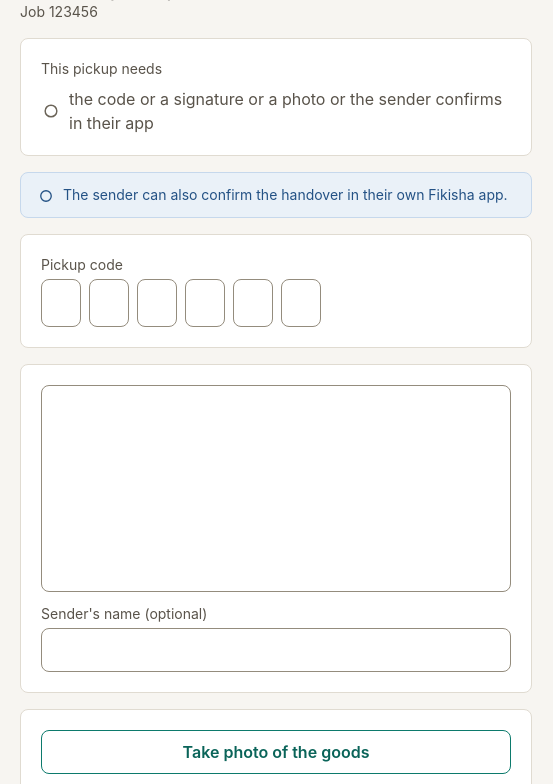
Test: PickupProofPage (two-party pickup, assessment 2026-10-20 L-5) › shows the server’s reason when it still refuses
Expected: the heading "This pickup needs" is shown, x1=41 y1=60 x2=162 y2=77
Type "1" into the field named "Digit".
click(61, 303); type("1")  # box x1=41 y1=279 x2=81 y2=327
Type "1" into the field named "Digit".
click(109, 303); type("1")  # box x1=89 y1=279 x2=129 y2=327
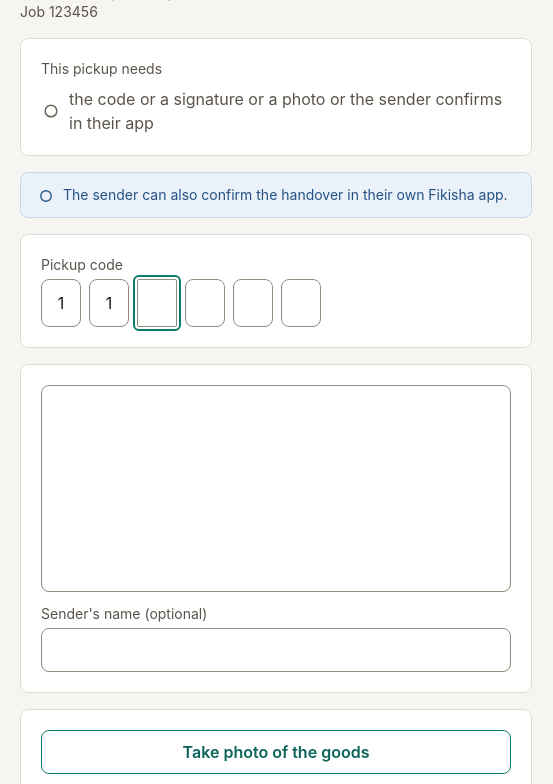
Type "1" into the field named "Digit".
click(157, 303); type("1")  # box x1=137 y1=279 x2=177 y2=327
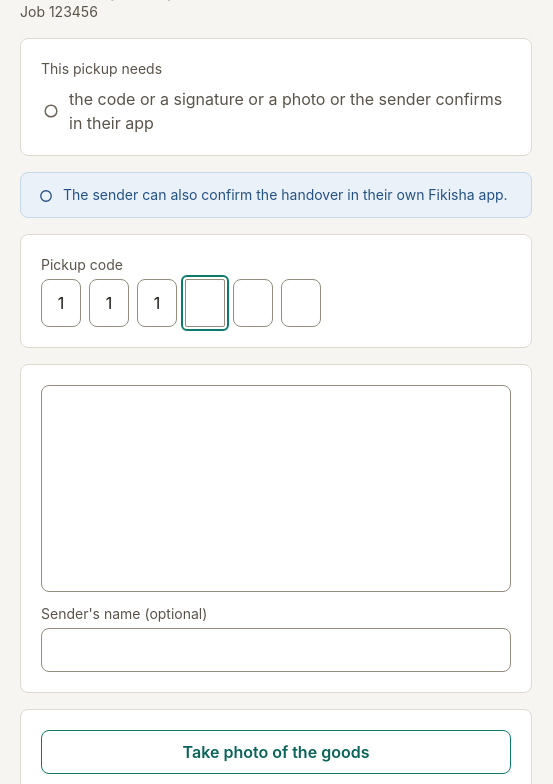
Type "1" into the field named "Digit".
click(205, 303); type("1")  # box x1=185 y1=279 x2=225 y2=327
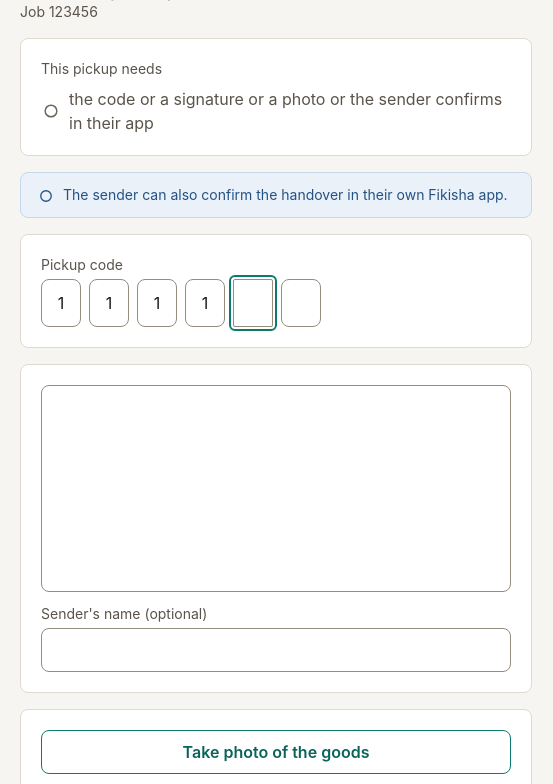
Type "1" into the field named "Digit".
click(253, 303); type("1")  # box x1=233 y1=279 x2=273 y2=327
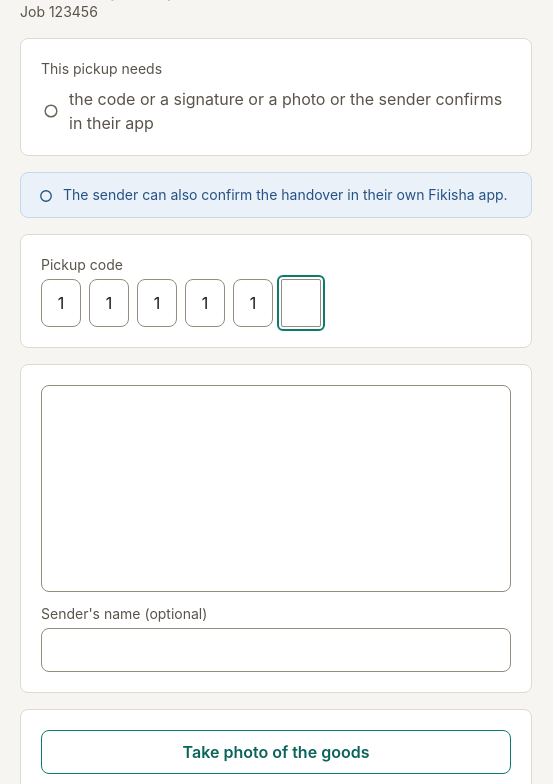
Type "1" into the field named "Digit".
click(301, 303); type("1")  # box x1=281 y1=279 x2=321 y2=327
(page scrolled)
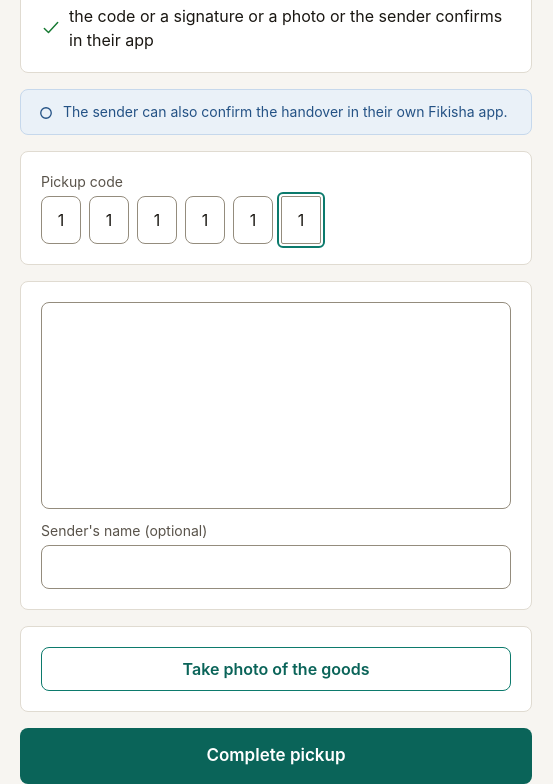
Click the button "Complete pickup".
click(276, 756)  # box x1=20 y1=728 x2=532 y2=783
(page scrolled)
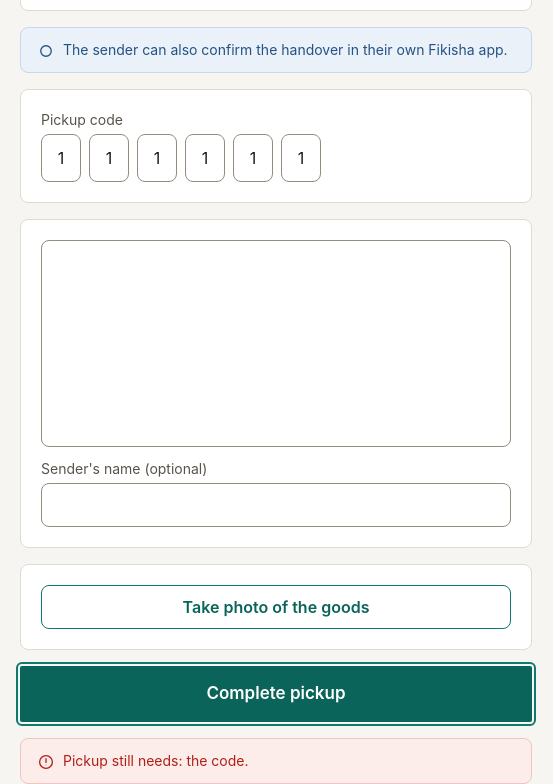
Expected: the message "Pickup still needs: the code." is shown, x1=20 y1=738 x2=532 y2=783
